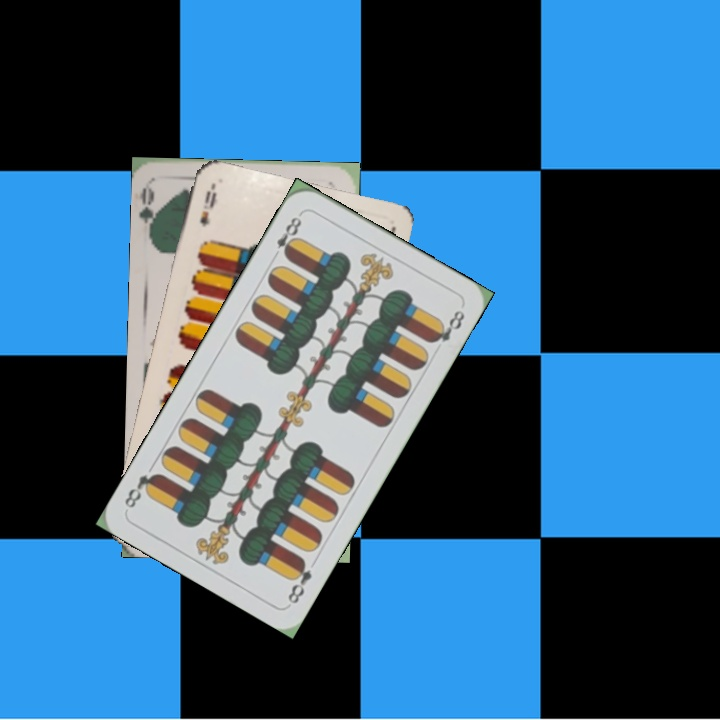E8: (268, 209, 305, 262), (283, 554, 315, 607)
E9: (196, 182, 219, 230)
GO: (137, 182, 164, 241)
